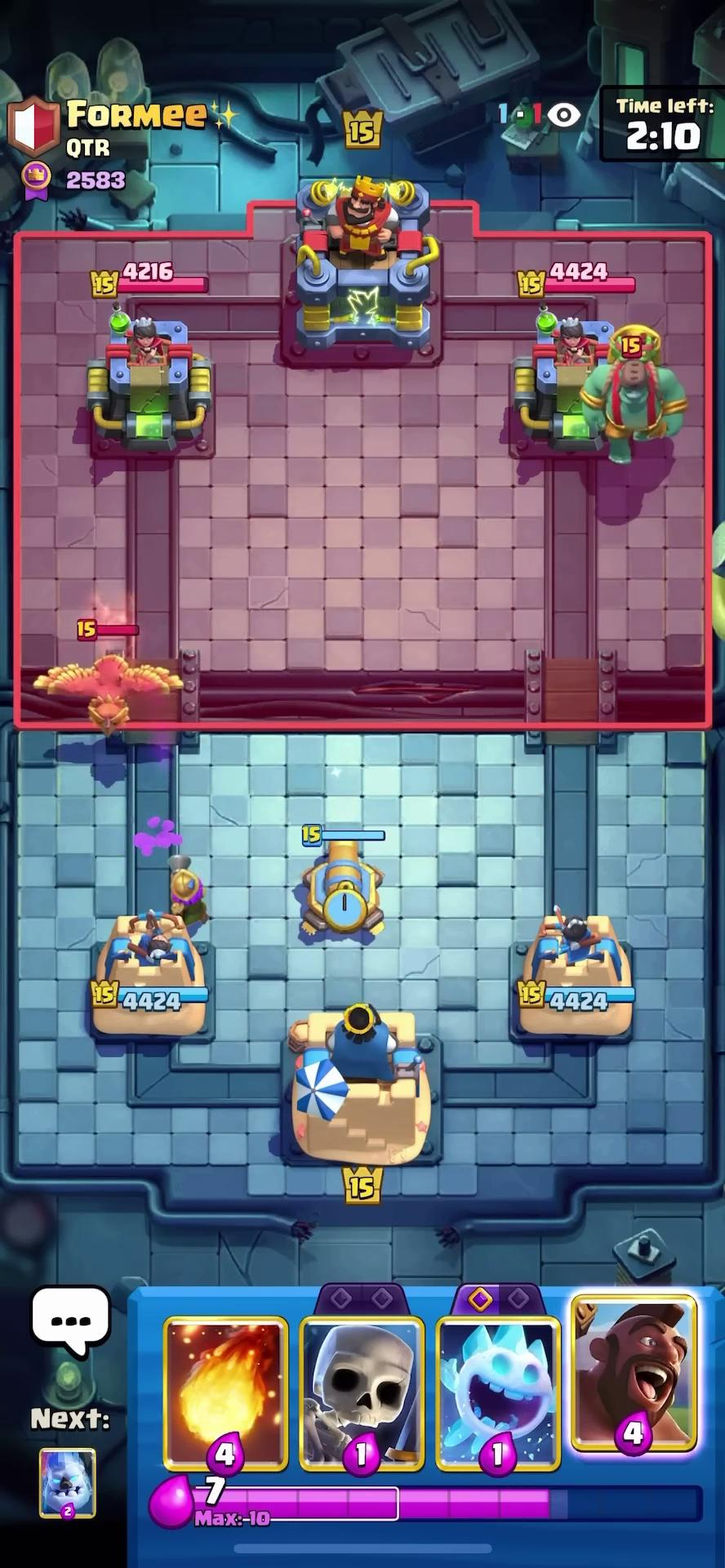cannon: (292, 825, 394, 947)
musketeer: (159, 837, 225, 937)
